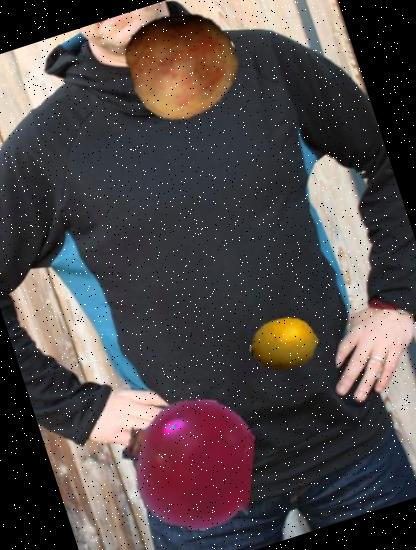Apple: (110, 0, 252, 135)
Lemon: (240, 300, 328, 388)
Redcurrant: (104, 381, 269, 546)
